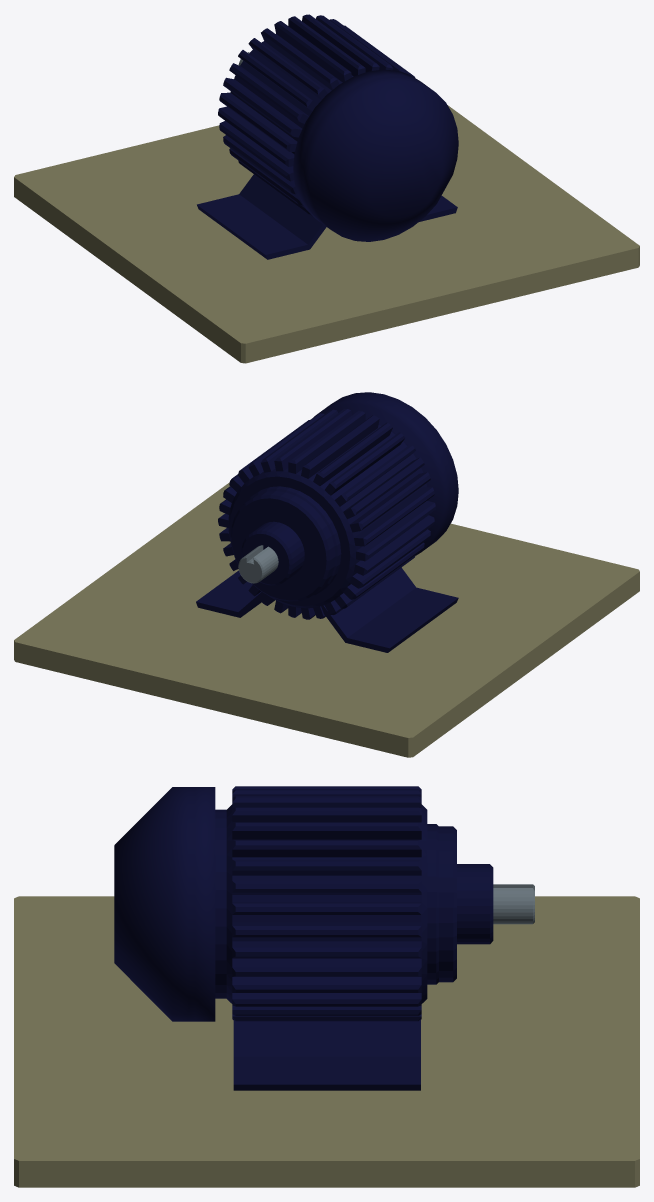
File: motor.obj
3 views of the same model, one above another, from view 1: azimuth 30°, elevation 25°; view 2: azimuth 150°, elevation 25°; view 3: azimuth 270°, elevation 25° (orthographic). The views are drawn at different scales.
Parts seen in each view (by area): view 1: Cube, Cylinder.001, Cylinder, Plane.001_Plane.003; view 2: Cube, Cylinder, Cylinder.002, Plane.001_Plane.003, Cylinder.001, Cylinder.003_Cylinder.004, Plane_Plane.002, Cylinder.004_Cylinder.005; view 3: Cube, Cylinder, Cylinder.001, Plane_Plane.002, Cylinder.002, Cylinder.003_Cylinder.004, Cylinder.004_Cylinder.005.
Part boxes in pixels (x1,y1,x2,y2): Cube: (14, 105, 639, 363); Cylinder.001: (293, 69, 458, 241); Cylinder: (218, 14, 415, 215); Plane.001_Plane.003: (197, 174, 326, 259); Cube: (14, 482, 639, 757); Cylinder: (218, 408, 435, 619); Cylinder.002: (231, 486, 341, 601); Plane.001_Plane.003: (321, 567, 458, 652); Cylinder.001: (313, 392, 458, 555); Cylinder.003_Cylinder.004: (241, 521, 304, 585); Plane_Plane.002: (196, 570, 263, 617); Cylinder.004_Cylinder.005: (238, 545, 278, 583); Cube: (14, 896, 639, 1187); Cylinder: (215, 786, 427, 1021); Cylinder.001: (114, 787, 215, 1021); Plane_Plane.002: (233, 1019, 420, 1090); Cylinder.002: (427, 824, 456, 984); Cylinder.003_Cylinder.004: (457, 864, 493, 944); Cylinder.004_Cylinder.005: (493, 884, 534, 924).
Size of the model in its own units: 6.23 by 2.83 by 6.23.
